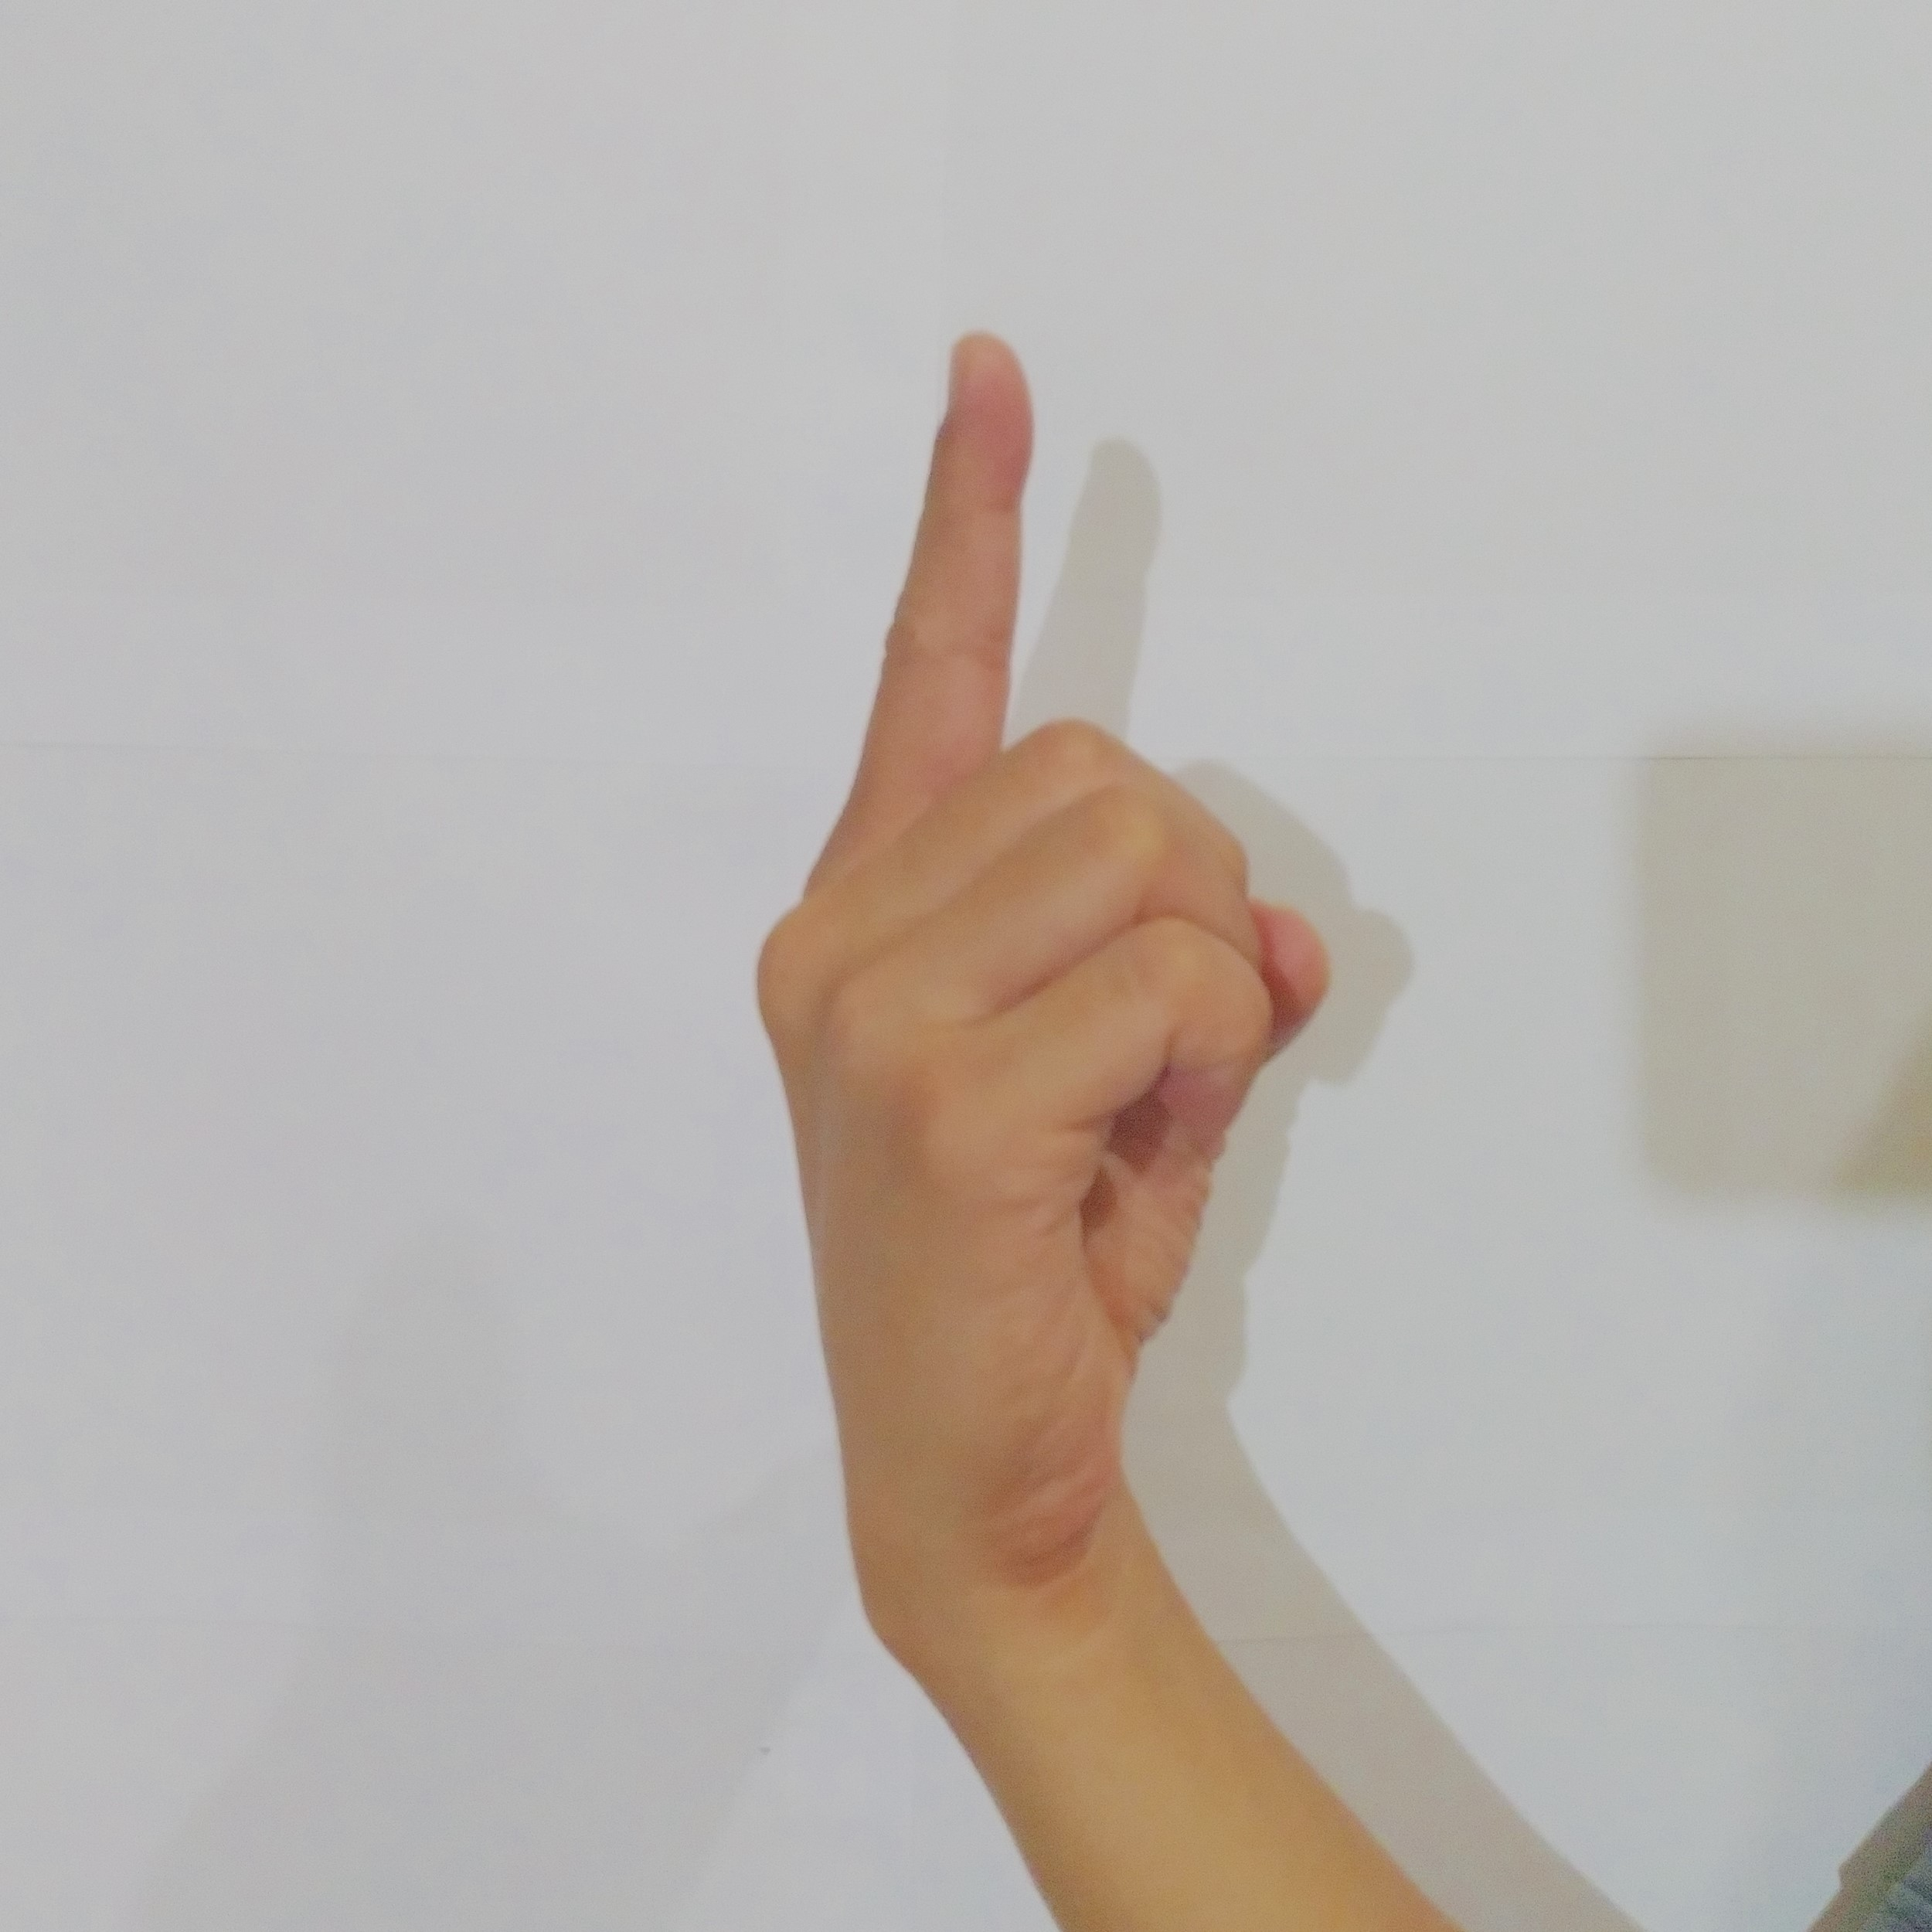D: (725, 308, 1352, 1465)
